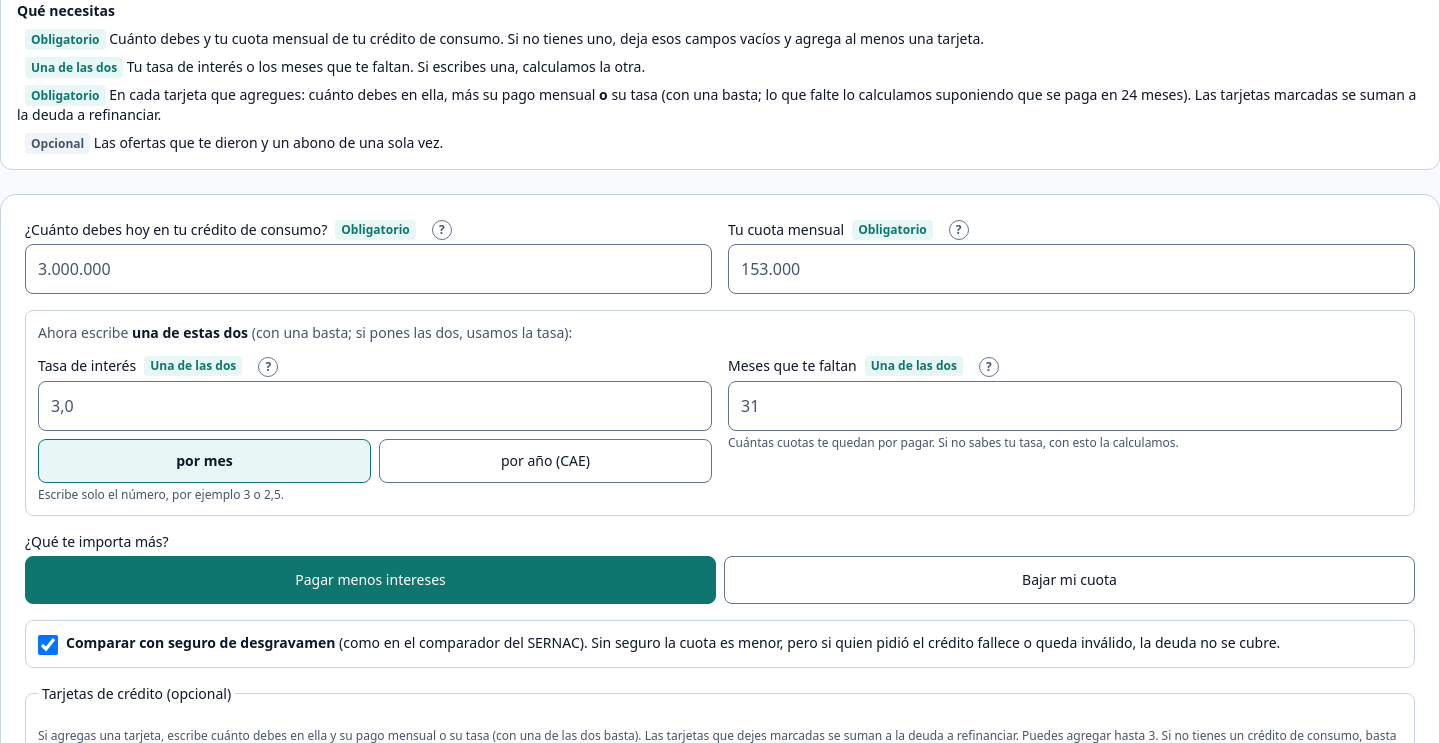
it: Resultado › avisa si editas datos después de calcular (resultados desactualizados)
This screenshot has width=1440, height=743.
Type "3000000" into the field labelled "¿Cuánto debes hoy en tu crédito de consumo?". click: (368, 269)
box: [25, 244, 712, 294]
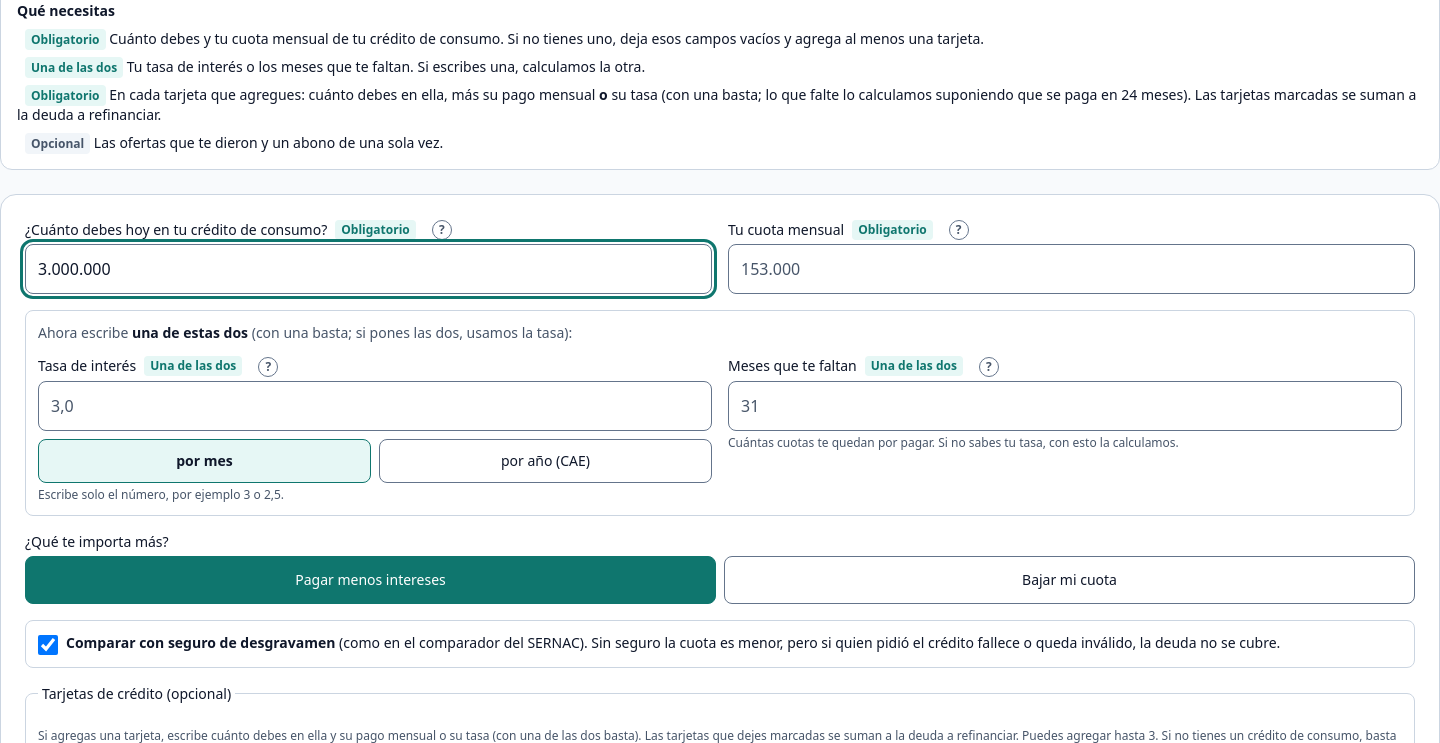
Type "153000" into the field labelled "Tu cuota mensual". click: (1072, 269)
box: [728, 244, 1415, 294]
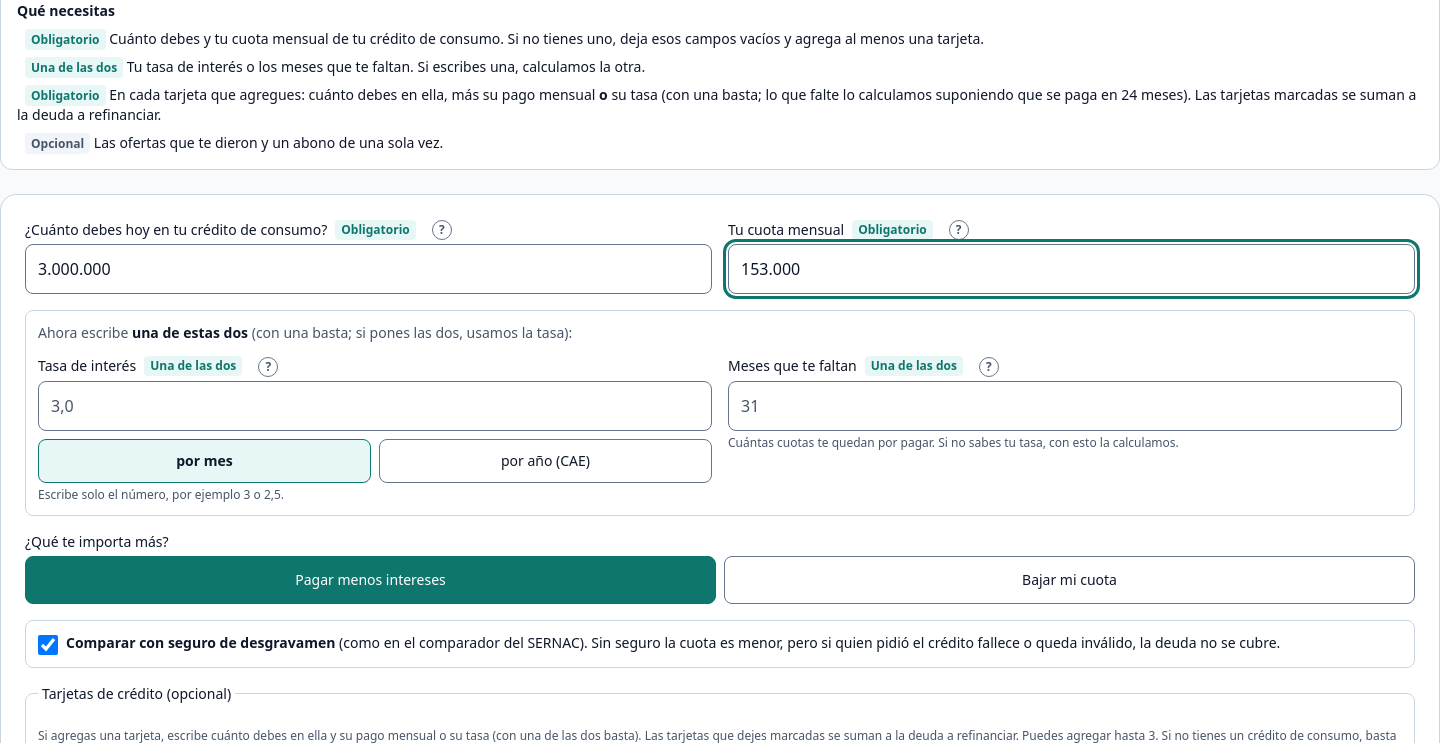
Type "3" into the field labelled "Tasa de interés". click: (375, 406)
box: [38, 380, 712, 430]
(page scrolled)
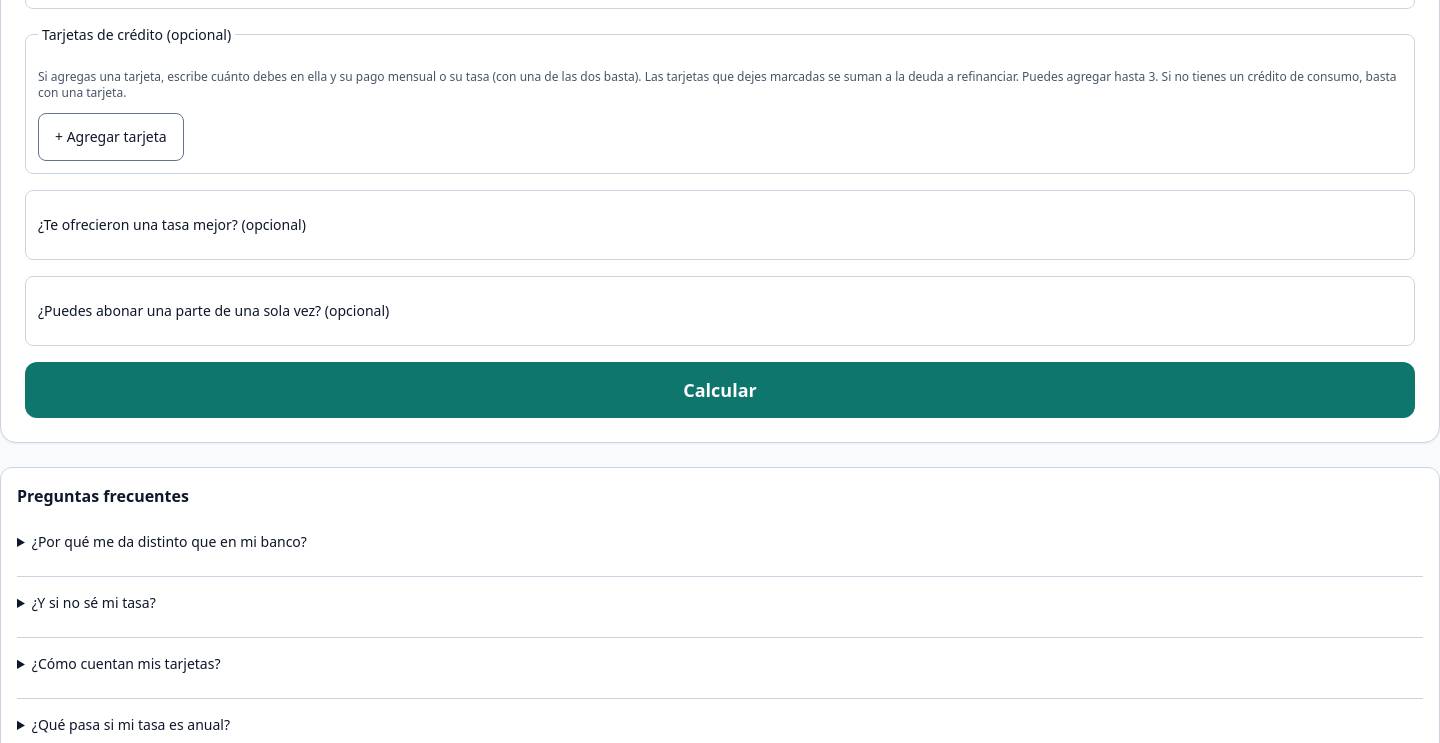
Click the button "Calcular". click: (720, 390)
box: [25, 362, 1415, 418]
(page scrolled)
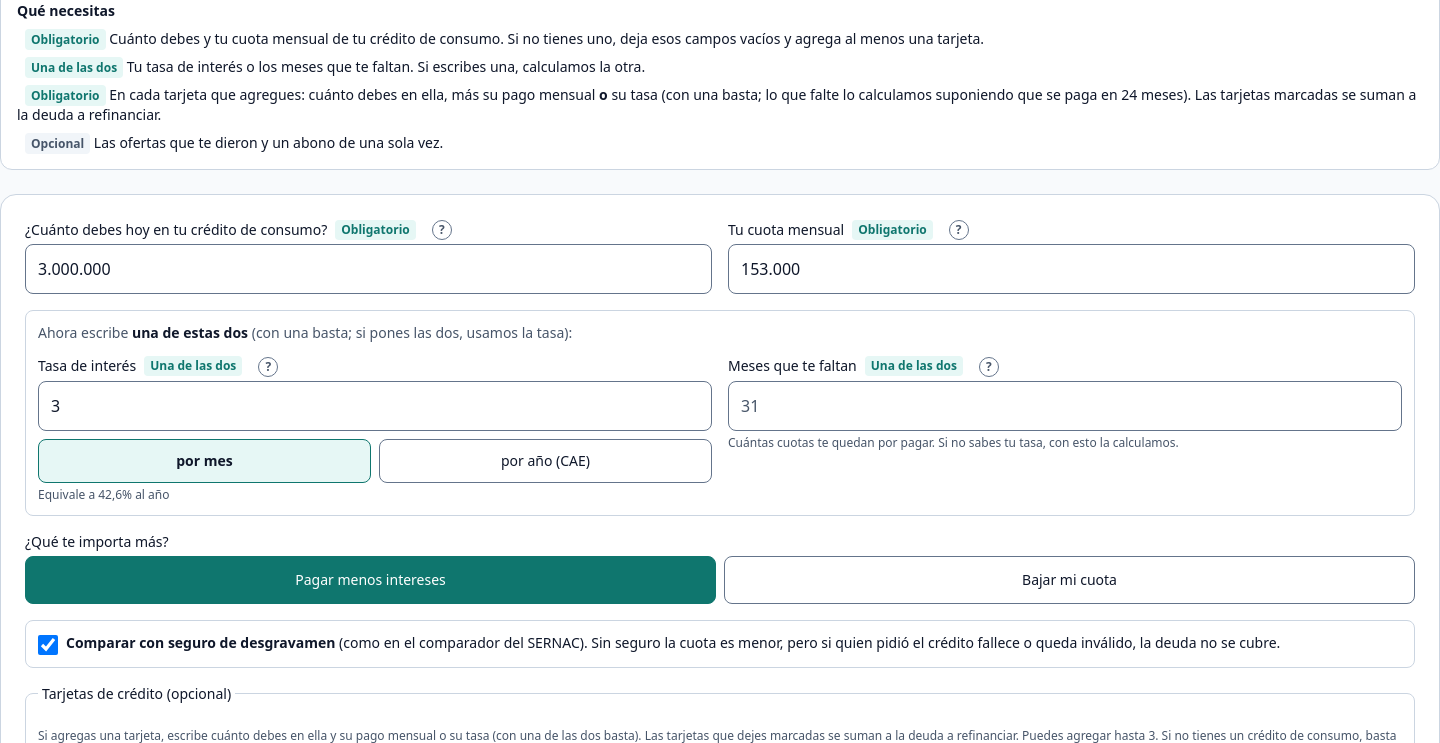
Type "0" into the field labelled "Tu cuota mensual". click: (1072, 269)
box: [728, 244, 1415, 294]
(page scrolled)
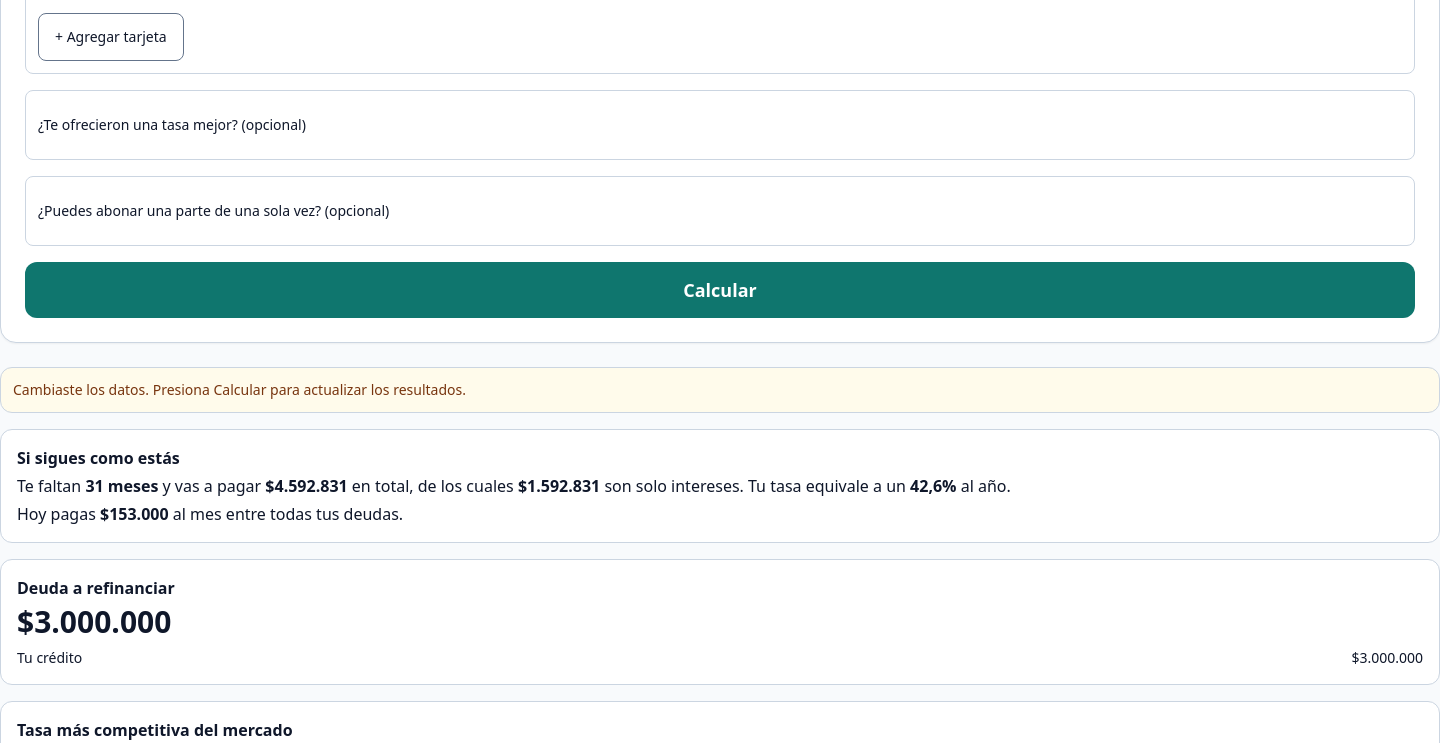
Check: the message shows "Cambiaste los datos", box [13, 380, 466, 398]
